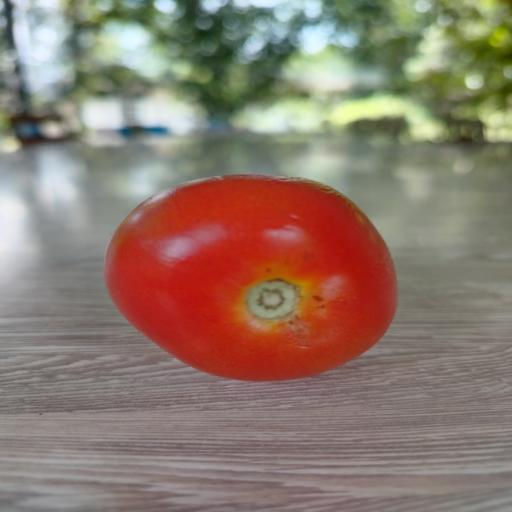spoiled: (105, 175, 397, 381)
